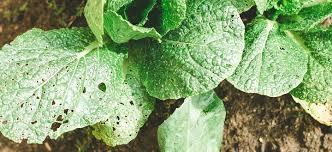Bok-Choy-Diseased: (1, 25, 137, 141)
